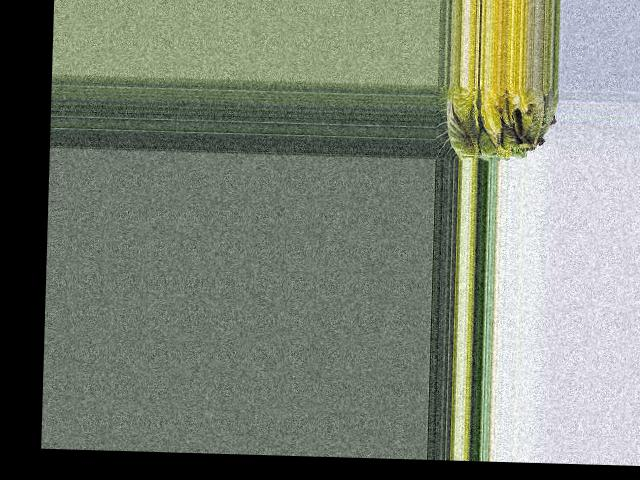lettuce: (435, 84, 554, 160)
